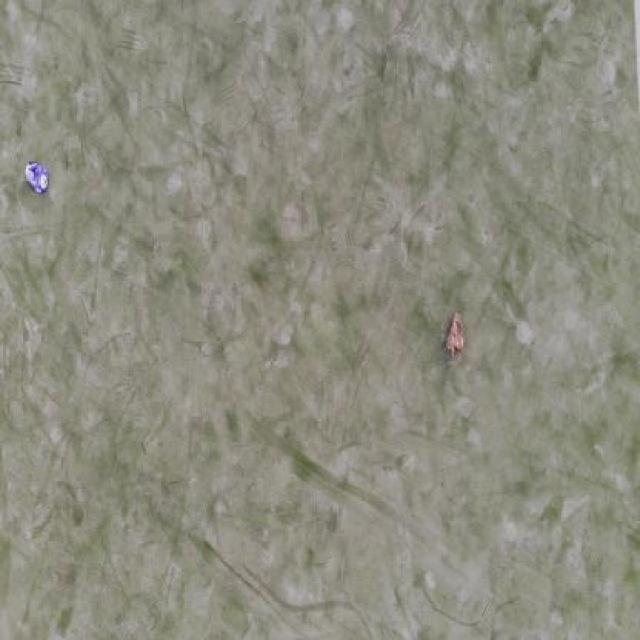Garbage: (24, 161, 49, 195), (446, 313, 466, 353)
